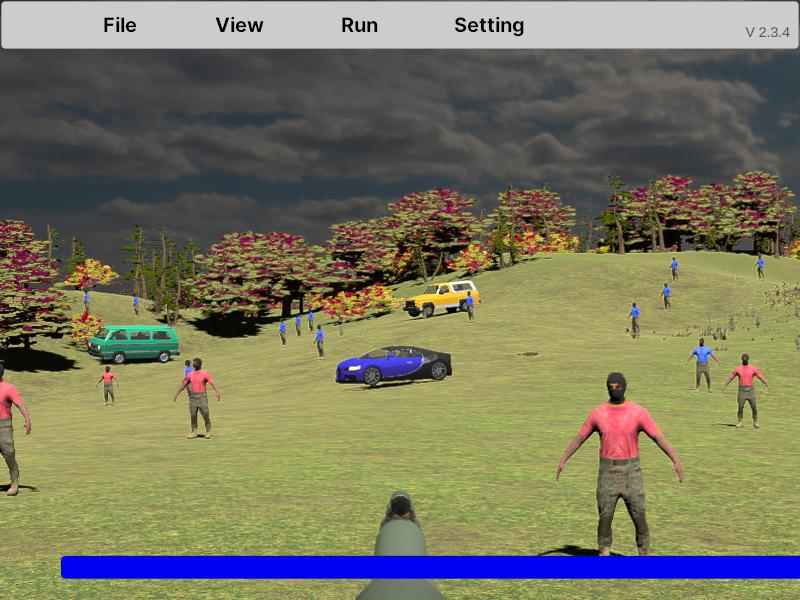Human: (556, 371, 683, 575), (0, 362, 31, 496), (175, 357, 220, 440), (723, 353, 770, 429), (687, 337, 720, 393), (96, 364, 119, 408)
car: (335, 345, 452, 388), (87, 325, 180, 365), (404, 281, 480, 318)
